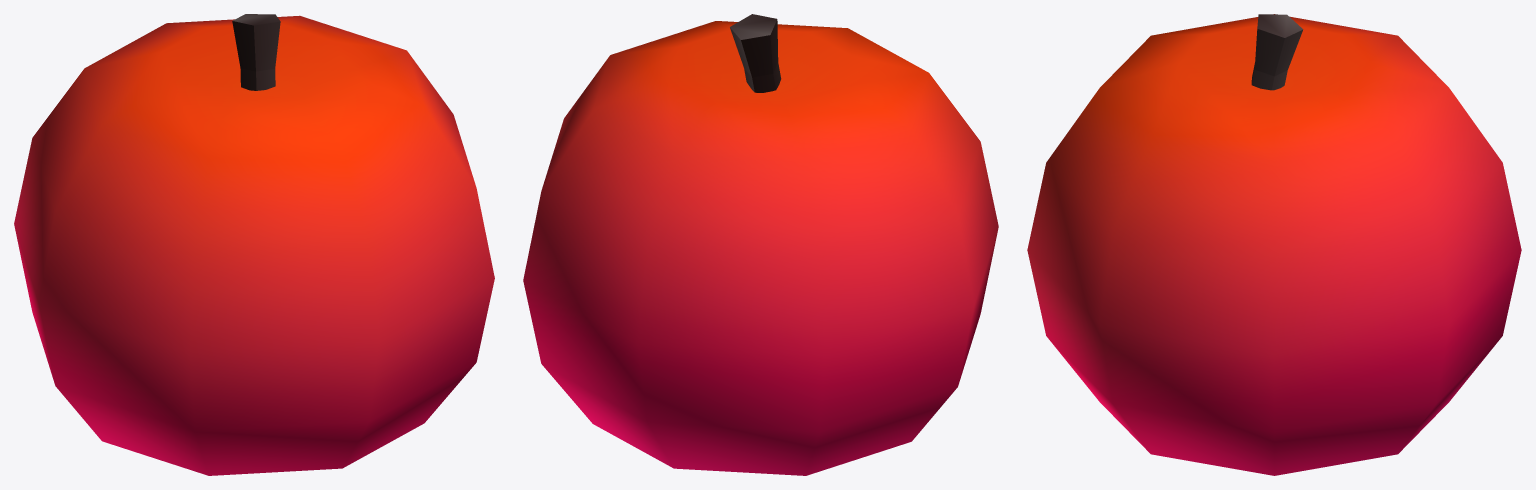
Rendered from Asset_Apple.glb.
3 renders of one model, left to right at view 1: azimuth 30°, elevation 25°; view 2: azimuth 150°, elevation 25°; view 3: azimuth 270°, elevation 25°, orthographic.
Visible parts, largest first — view 1: Mesh; view 2: Mesh; view 3: Mesh.
Part boxes in pixels (x1,y1,x2,y2): Mesh: (14, 14, 494, 475); Mesh: (523, 14, 998, 475); Mesh: (1027, 14, 1521, 475).
Size of what is drawn, in the model's own units: 2 by 1.83 by 2.
1 material, 1 textured.
